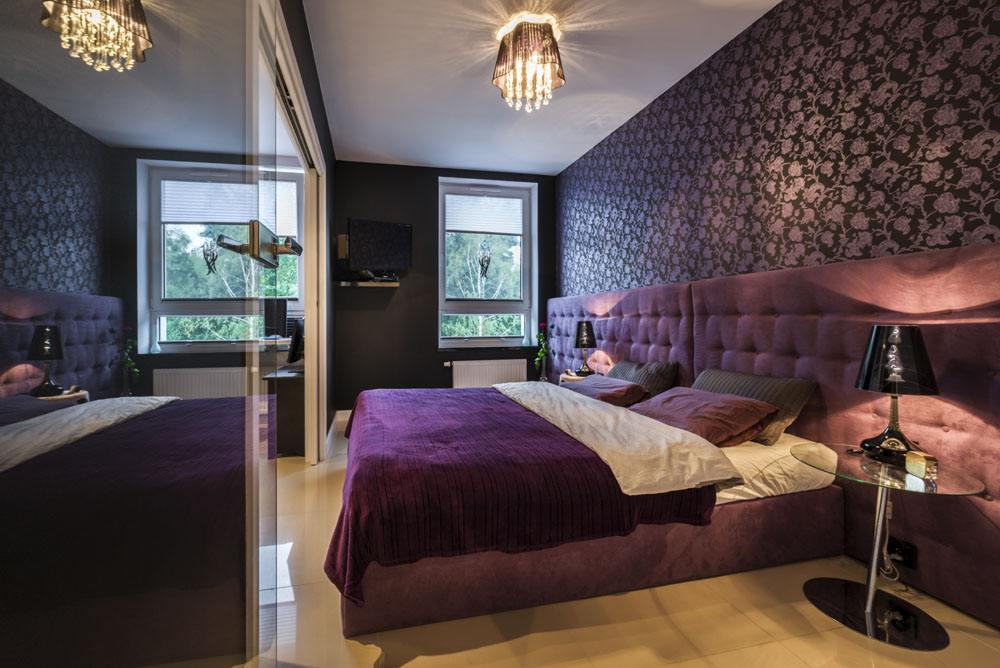床: (331, 363, 841, 627)
枕头: (559, 367, 798, 454)
灯: (850, 320, 933, 460), (487, 4, 565, 118), (42, 3, 156, 77), (28, 321, 69, 393)
